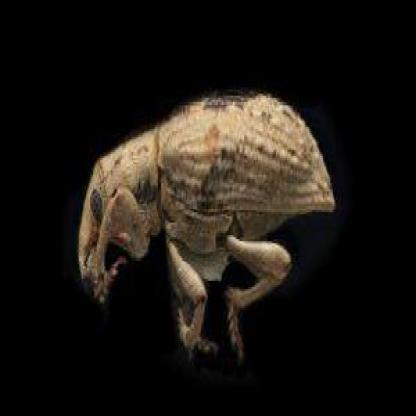rice-bug: (78, 93, 336, 348)
